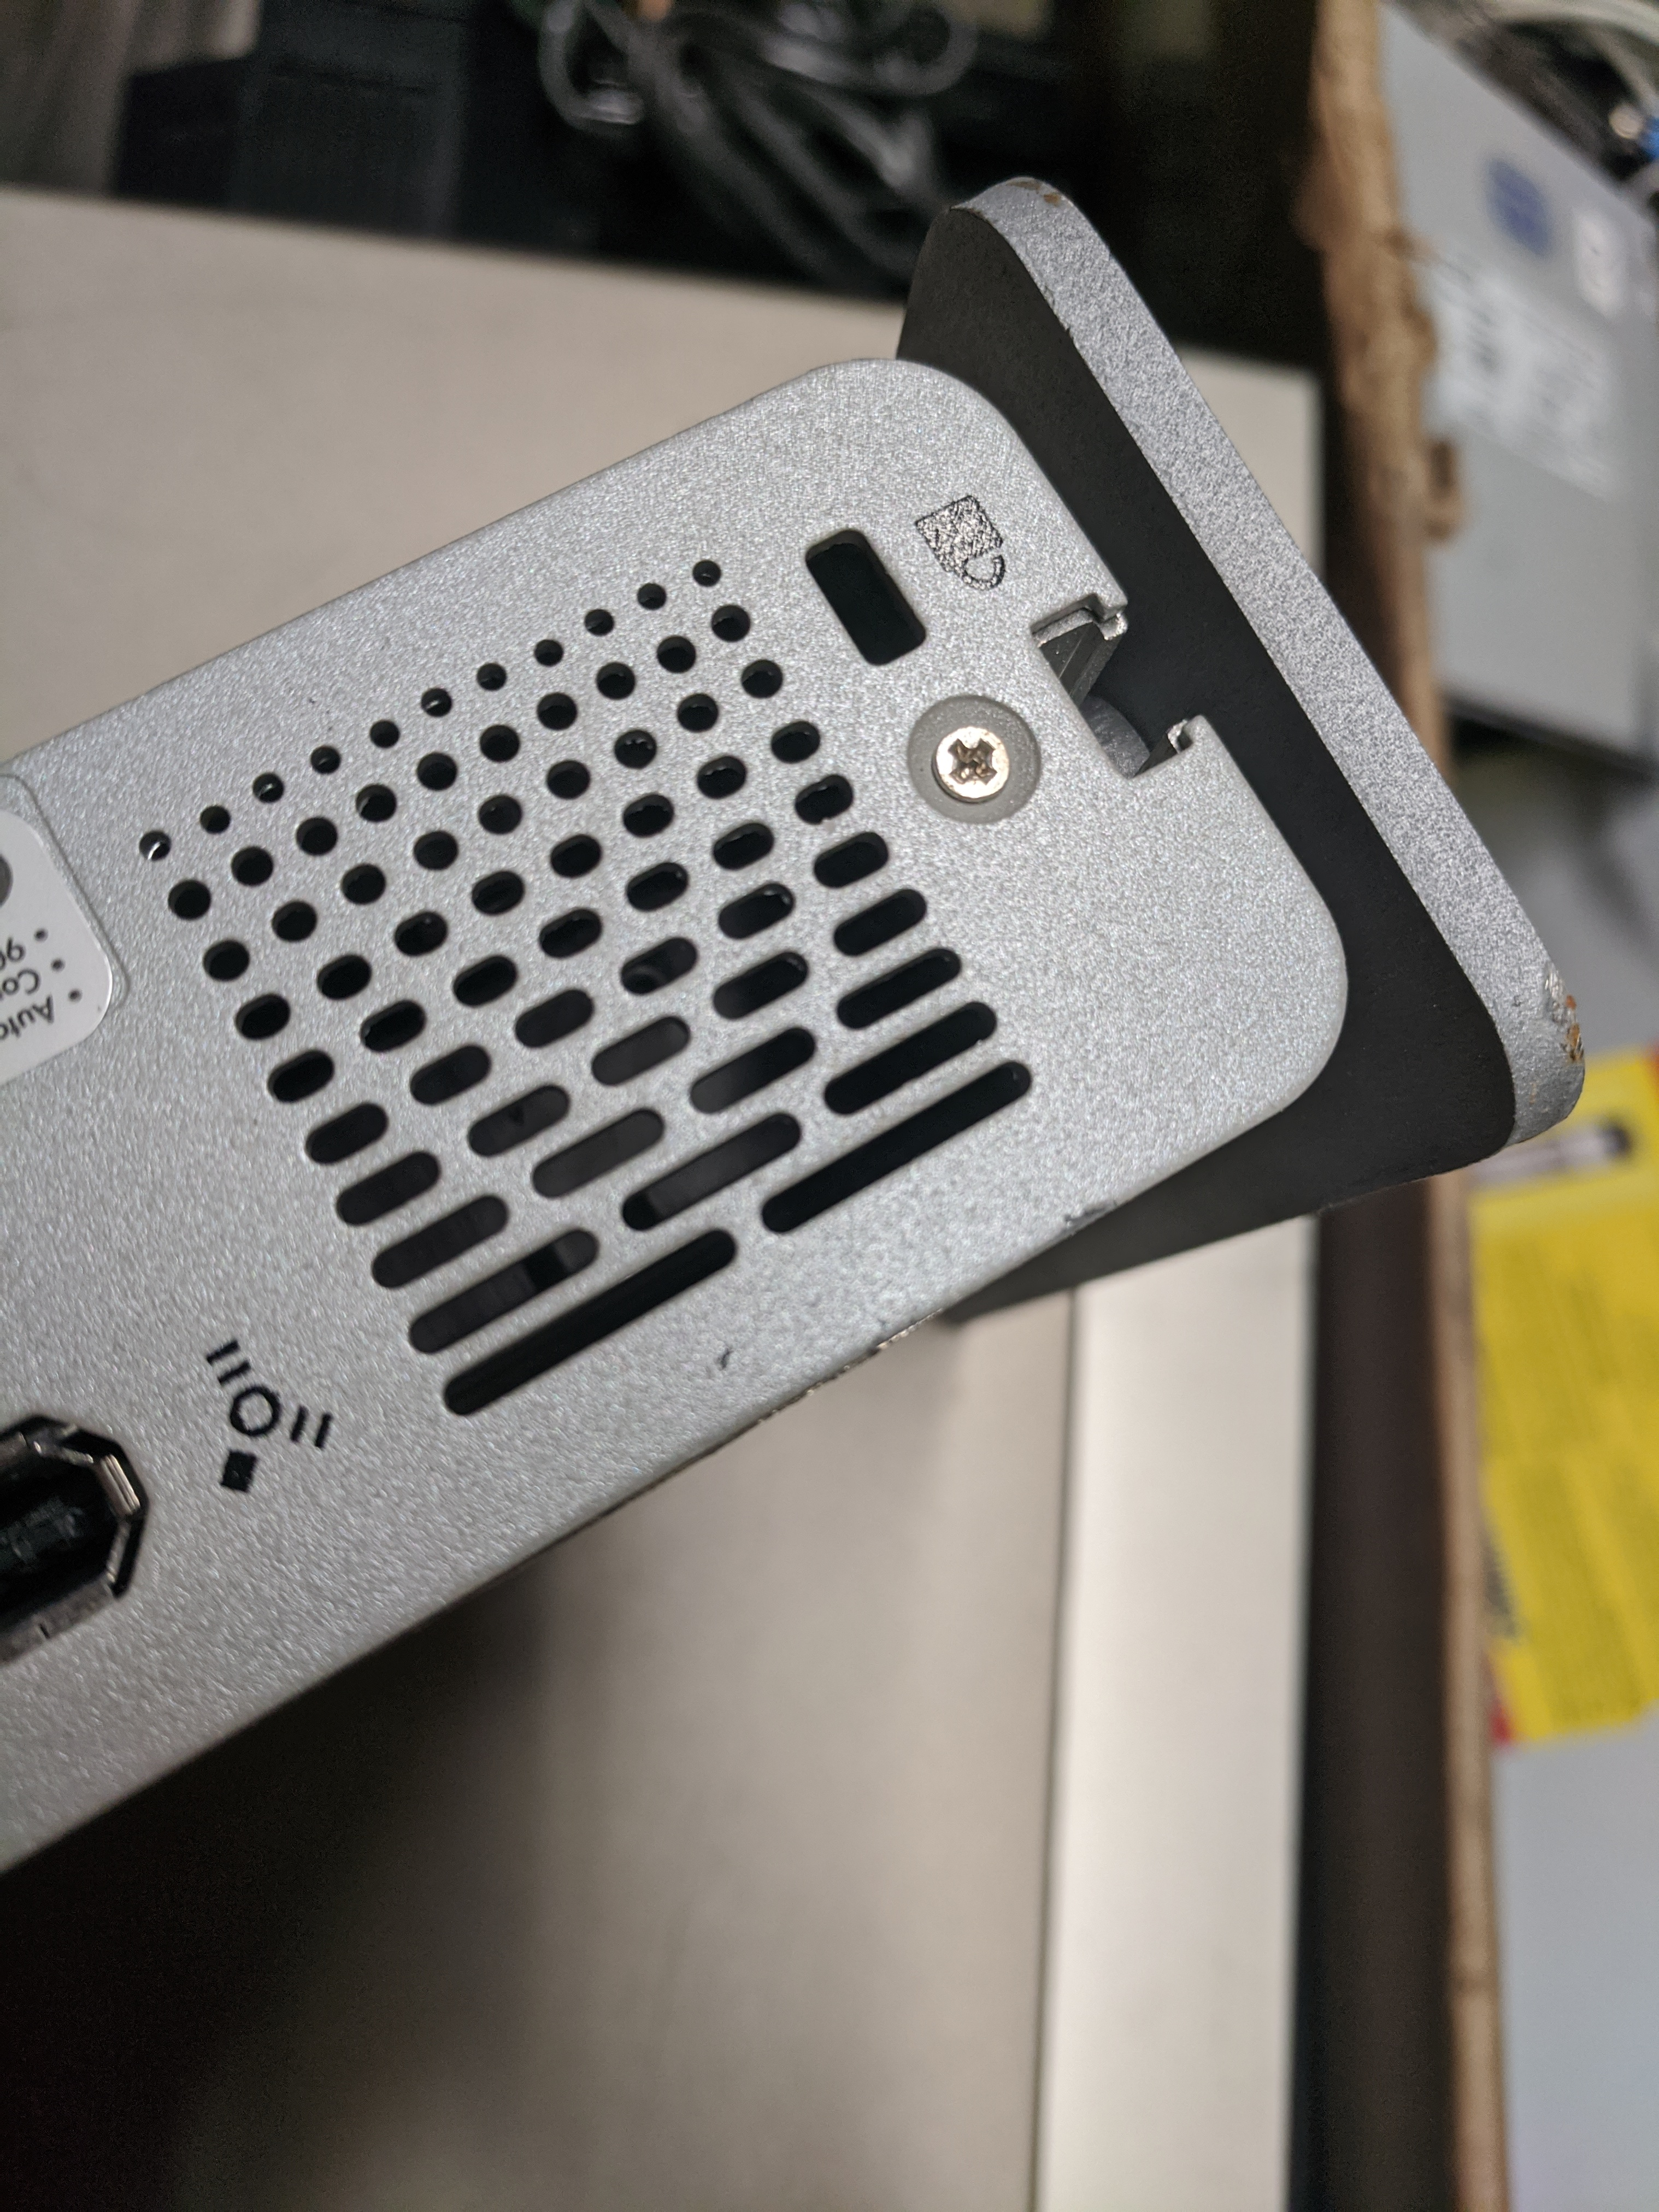cross_recessed_screw: (922, 714, 1016, 799)
